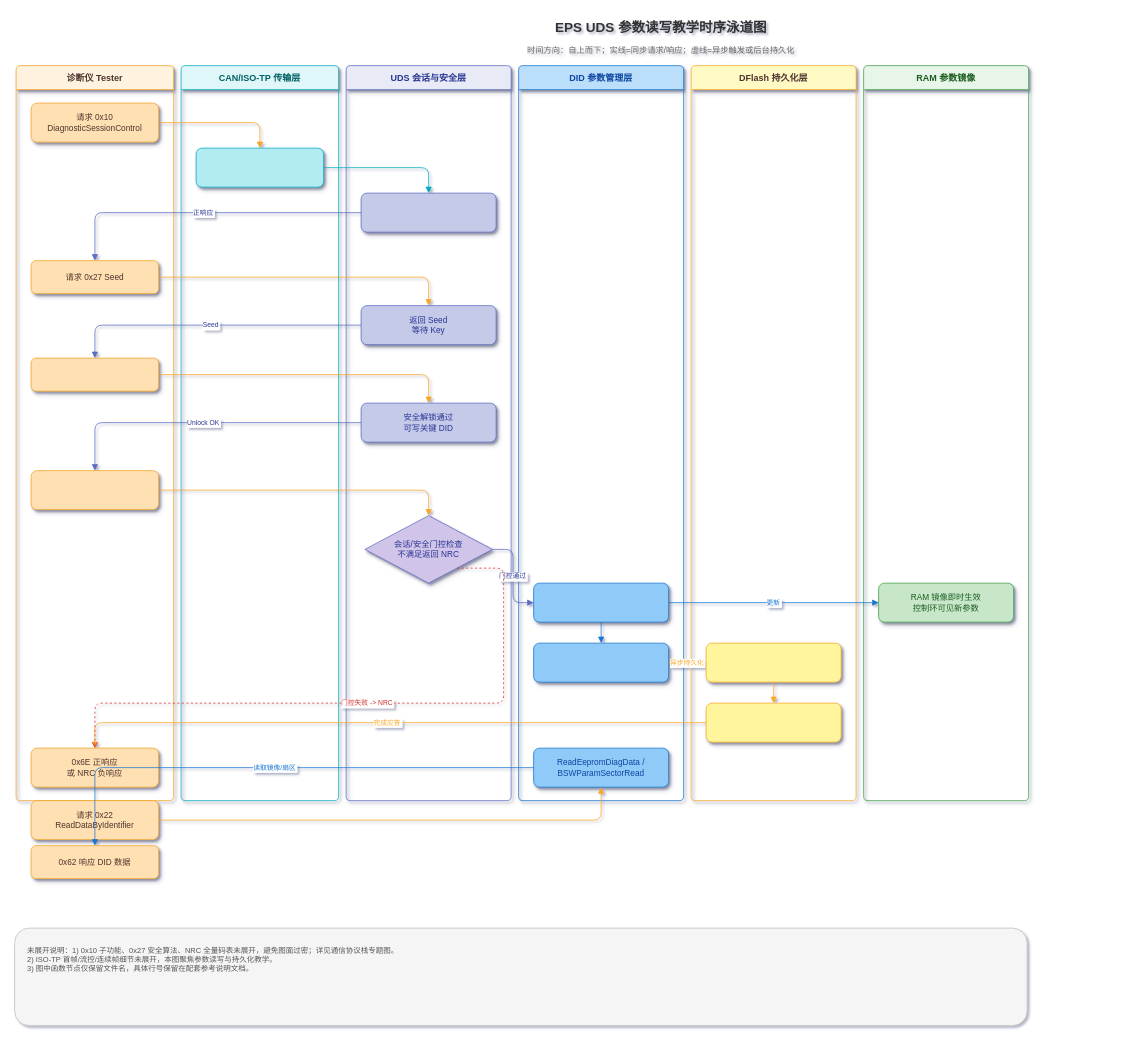
Image size: 1144x1043. Some labels were removed from this diagram. Each missing label, with the centre of its shape:
ISO-TP 分段发送 请求帧组装: [260,168]
ParamDIDRestortEeprom 触发持久化: [601,663]
ParamDIDWrite 擦除 + 写入 DID 扇区: [774,663]
WriteEepromDiagData 更新 DID 镜像: [601,603]
发送 0x27 Key: [95,375]
请求 0x2E WriteDataByIdentifier: [95,491]
边界保护 + CRC/ECC 写后完整性检查: [774,723]
进入扩展会话 Session=Extended: [429,213]
